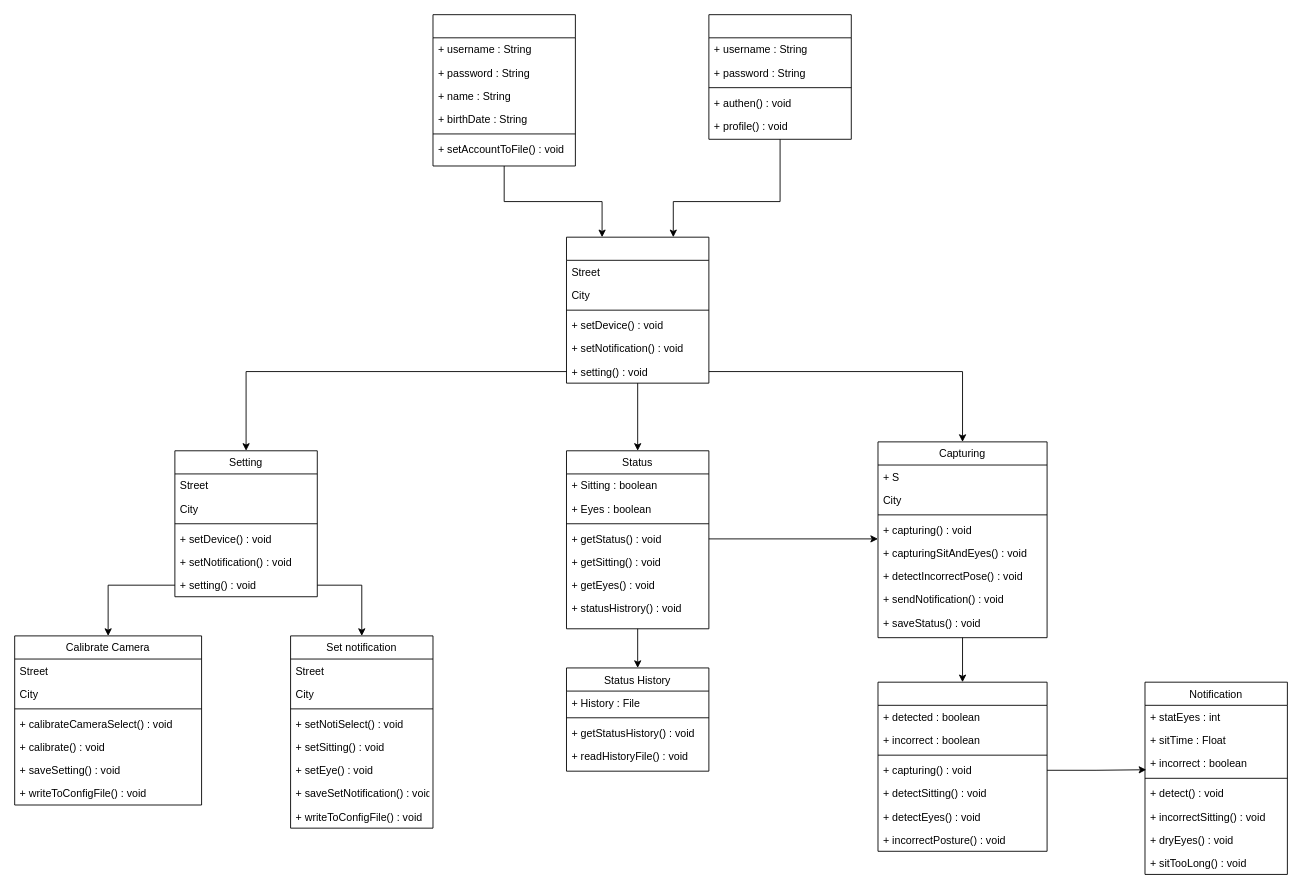
Image size: 1302x889. Some labels were removed from this diagram. The shapes that lost their labels are listed below. From the top down, each one's box as (x1, y1, x2, y2) in pixels, then its label:
(432, 14, 575, 166): Register
(708, 14, 851, 139): Login
(566, 236, 709, 383): Main
(877, 681, 1047, 851): Detect posture
